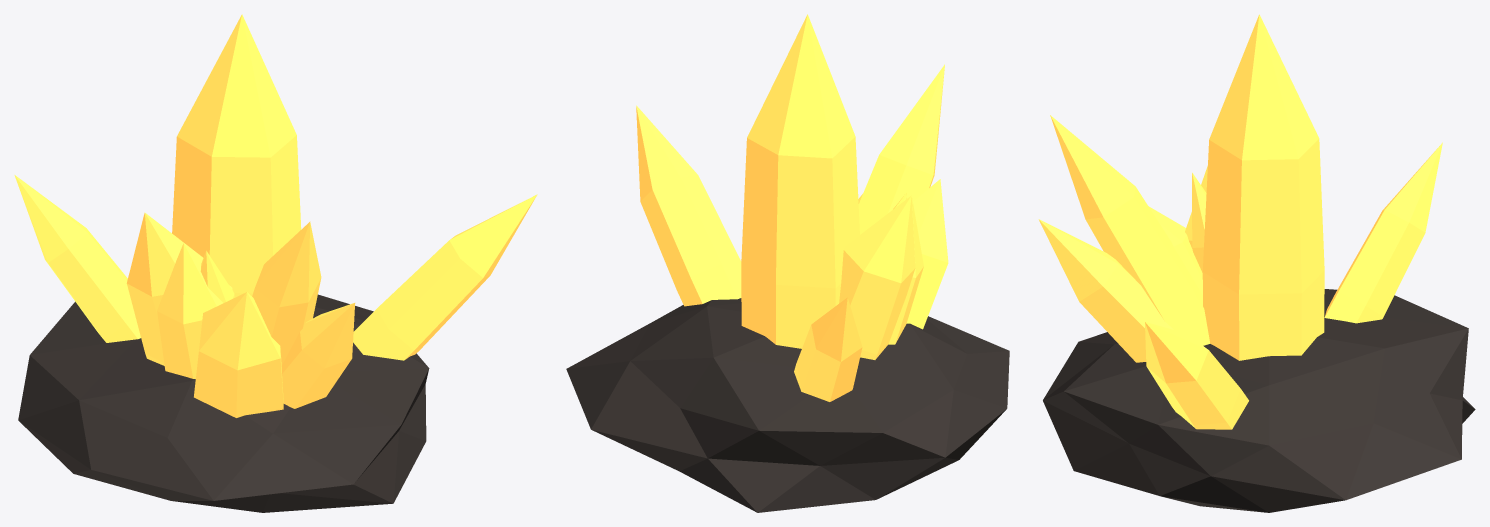
File: wb_crystal_forearm_lod1.glb
3 views of the same model, side by side, from view 1: azimuth 30°, elevation 25°; view 2: azimuth 150°, elevation 25°; view 3: azimuth 270°, elevation 25° (orthographic). The views are drawn at different scales.
Parts seen in each view (by area): view 1: wb_crystal_forearm_lod1; view 2: wb_crystal_forearm_lod1; view 3: wb_crystal_forearm_lod1.
Part boxes in pixels (left/top/right/bottom): wb_crystal_forearm_lod1: left=14, top=14, right=537, bottom=512; wb_crystal_forearm_lod1: left=566, top=14, right=1009, bottom=512; wb_crystal_forearm_lod1: left=1038, top=14, right=1475, bottom=512.
Size of the model in its own units: 0.9881 by 1.03 by 0.8985.
